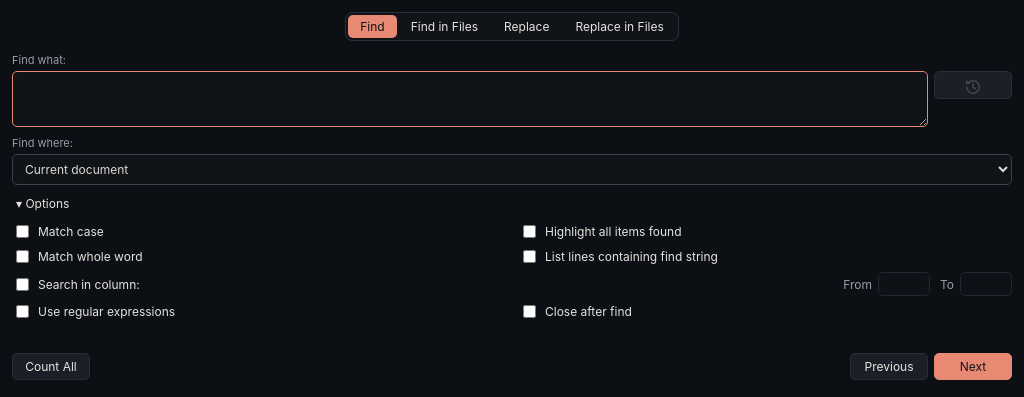
Test case: checks a regular expression as it is typed and shows the engine's message
Click the checkbox labelled "Use regular expressions".
click(22, 312)  # box [16,305,29,318]
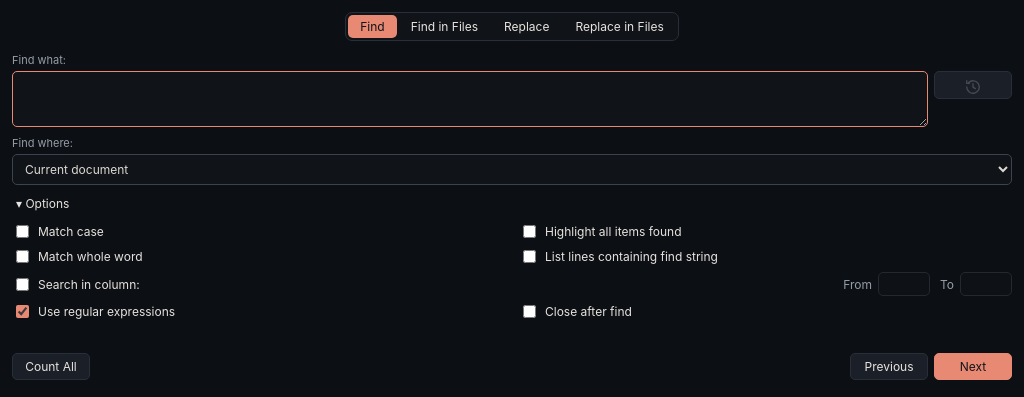
Type "(?<=id=)\\d+" into the text box named "Find what".
click(470, 99); type("(?<=id=)\\d+")  # box [12,71,928,127]
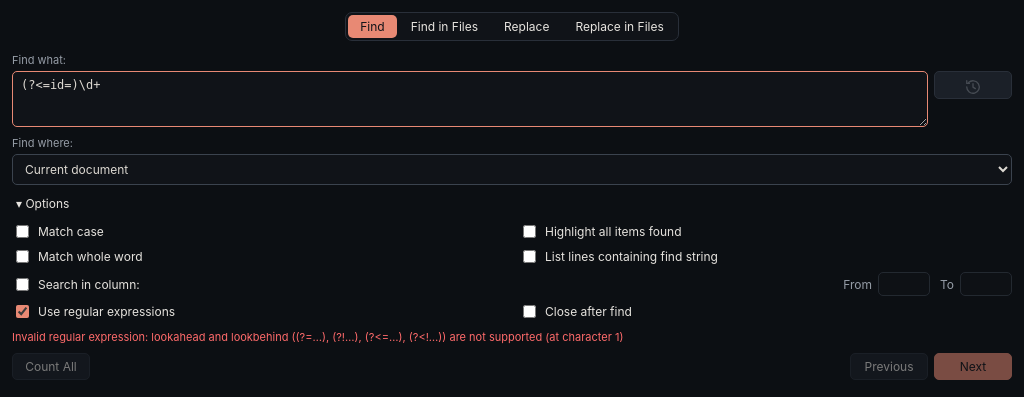
Now the message shows "lookbehind", box [12,330,623,344]
Now the button "Count All" is disabled, box [12,353,90,380]
Replace the text in the text box named "Find what" with "id=\\d+" at (470, 99), box [12,71,928,127]
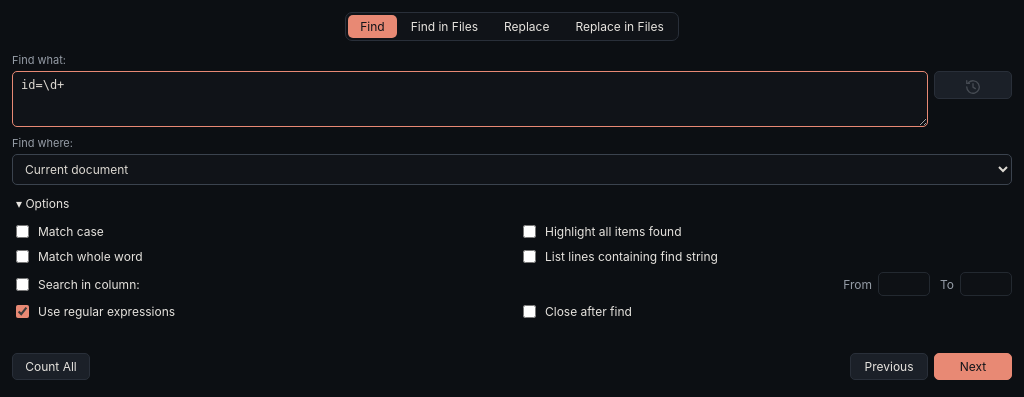
Expected: the message is empty, [12,330,1012,344]
Now the button "Count All" is enabled, box [12,353,90,380]
